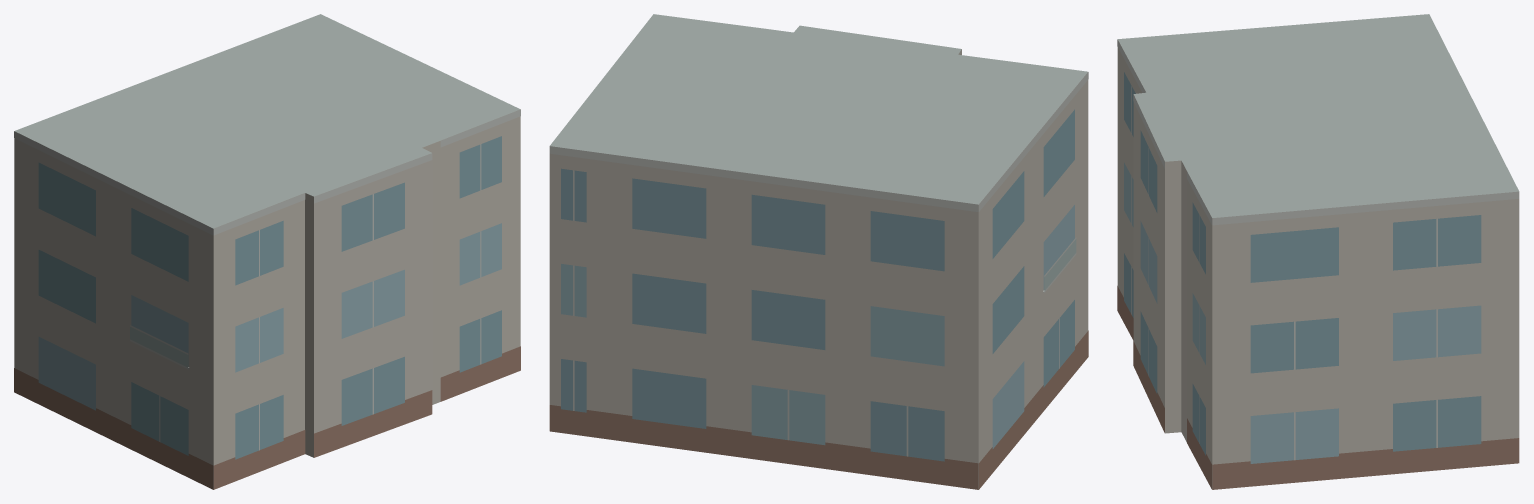
File: survey-upis-32717839.glb
3 views of the same model, side by side, from view 1: azimuth 30°, elevation 25°; view 2: azimuth 150°, elevation 25°; view 3: azimuth 270°, elevation 25° (orthographic). The views are drawn at different scales.
Parts seen in each view (by area): view 1: survey-upis-32717839.tmp; view 2: survey-upis-32717839.tmp; view 3: survey-upis-32717839.tmp.
Boxes of the visible parts, x1,y1,x2,y2 form: survey-upis-32717839.tmp: (14, 14, 520, 489); survey-upis-32717839.tmp: (549, 14, 1088, 489); survey-upis-32717839.tmp: (1117, 14, 1519, 489).
Bounding box in the file's own units: 14.75 × 9.15 × 12.28.
